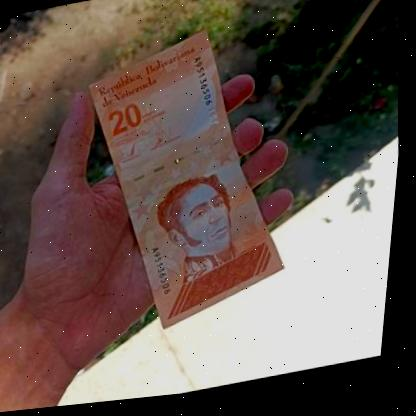twenty-front-vef: (69, 17, 312, 349)
